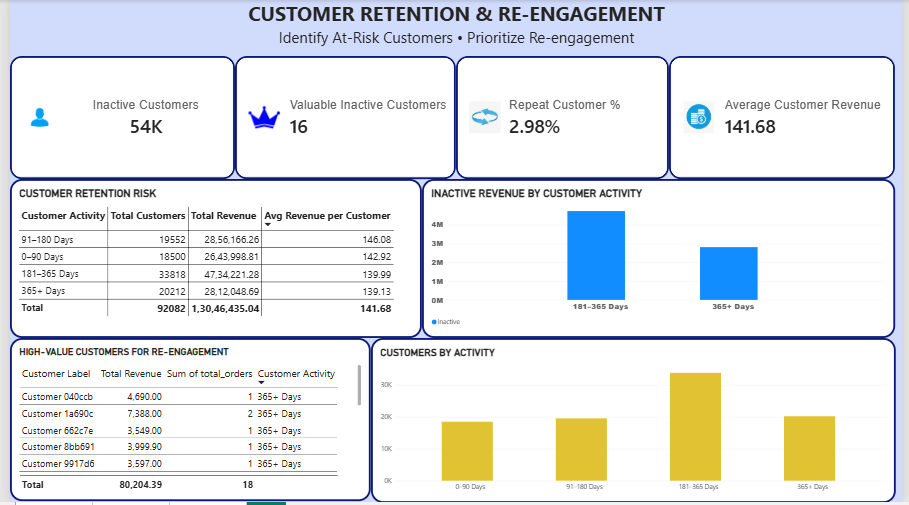

What the dashboard file says about the page in this screenshot:
{"tool":"powerbi","page":{"name":"Page 2","canvas":[1920,1080],"ordinal":1},"visuals":[{"type":"textbox","box":[0,0,1921.2,120.5],"z":0},{"type":"cardVisual","fields":{"Data":["customer_analysis.Inactive Customers"]},"box":[0,120.5,484.1,264.6],"z":1000},{"type":"cardVisual","fields":{"Data":["customer_analysis.Valuable Inactive Customers"]},"box":[484.1,120.5,475.5,264.6],"z":2000},{"type":"cardVisual","fields":{"Data":["customer_analysis.Repeat Customer %"]},"box":[959.5,120.5,458.2,264.6],"z":3000},{"type":"cardVisual","fields":{"Data":["customer_analysis.Average Customer Revenue"]},"box":[1417.8,120.5,486.2,264.6],"z":4000},{"type":"pivotTable","title":"CUSTOMER RETENTION RISK","fields":{"Rows":["customer_analysis.Customer Activity"],"Values":["customer_analysis.Total Customers","customer_analysis.Total Revenue","customer_analysis.Avg Revenue per Customer"]},"box":[0,385.1,886.4,342.1],"z":5000},{"type":"tableEx","title":" HIGH-VALUE CUSTOMERS FOR RE-ENGAGEMENT","fields":{"Values":["customer_analysis.Customer Label","customer_analysis.Total Revenue","Sum(customer_analysis.total_orders)","customer_analysis.Customer Activity"]},"box":[0,728.1,776.2,350.8],"z":6000},{"type":"clusteredColumnChart","title":"INACTIVE REVENUE BY CUSTOMER ACTIVITY","fields":{"Category":["customer_analysis.Customer Activity"],"Series":["customer_analysis.customer_status"],"Y":["customer_analysis.Total Revenue"]},"box":[886.4,385.1,1017.6,342.1],"z":7000},{"type":"clusteredColumnChart","title":"CUSTOMERS BY ACTIVITY","fields":{"Category":["customer_analysis.Customer Activity"],"Y":["customer_analysis.Total Customers"]},"box":[776.7,727.2,1129.5,355],"z":8000}]}

Visuals, with their boxes in screenshot pixels (x1, y1, x2, y2), scaled from the page's 1920x1080 canvas onto the 909x505 screenshot:
textbox: <box>0,0,908,56</box>
cardVisual - customer_analysis.Inactive Customers: <box>0,56,229,180</box>
cardVisual - customer_analysis.Valuable Inactive Customers: <box>229,56,454,180</box>
cardVisual - customer_analysis.Repeat Customer %: <box>454,56,671,180</box>
cardVisual - customer_analysis.Average Customer Revenue: <box>671,56,901,180</box>
"CUSTOMER RETENTION RISK" pivotTable: <box>0,180,420,340</box>
" HIGH-VALUE CUSTOMERS FOR RE-ENGAGEMENT" tableEx: <box>0,340,367,504</box>
"INACTIVE REVENUE BY CUSTOMER ACTIVITY" clusteredColumnChart: <box>420,180,901,340</box>
"CUSTOMERS BY ACTIVITY" clusteredColumnChart: <box>368,340,902,504</box>
